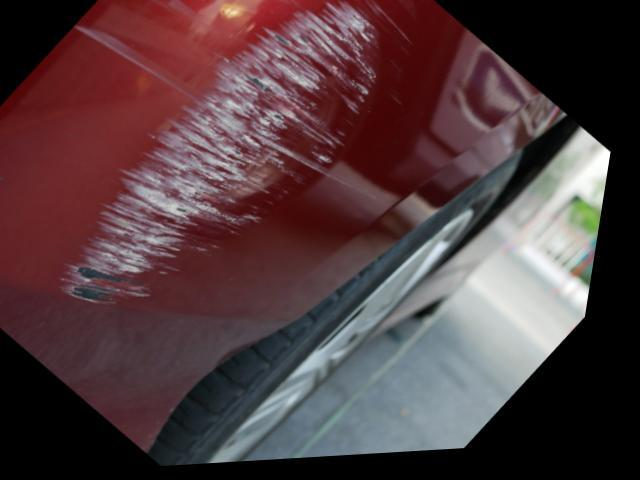scratch: (63, 0, 414, 315)
